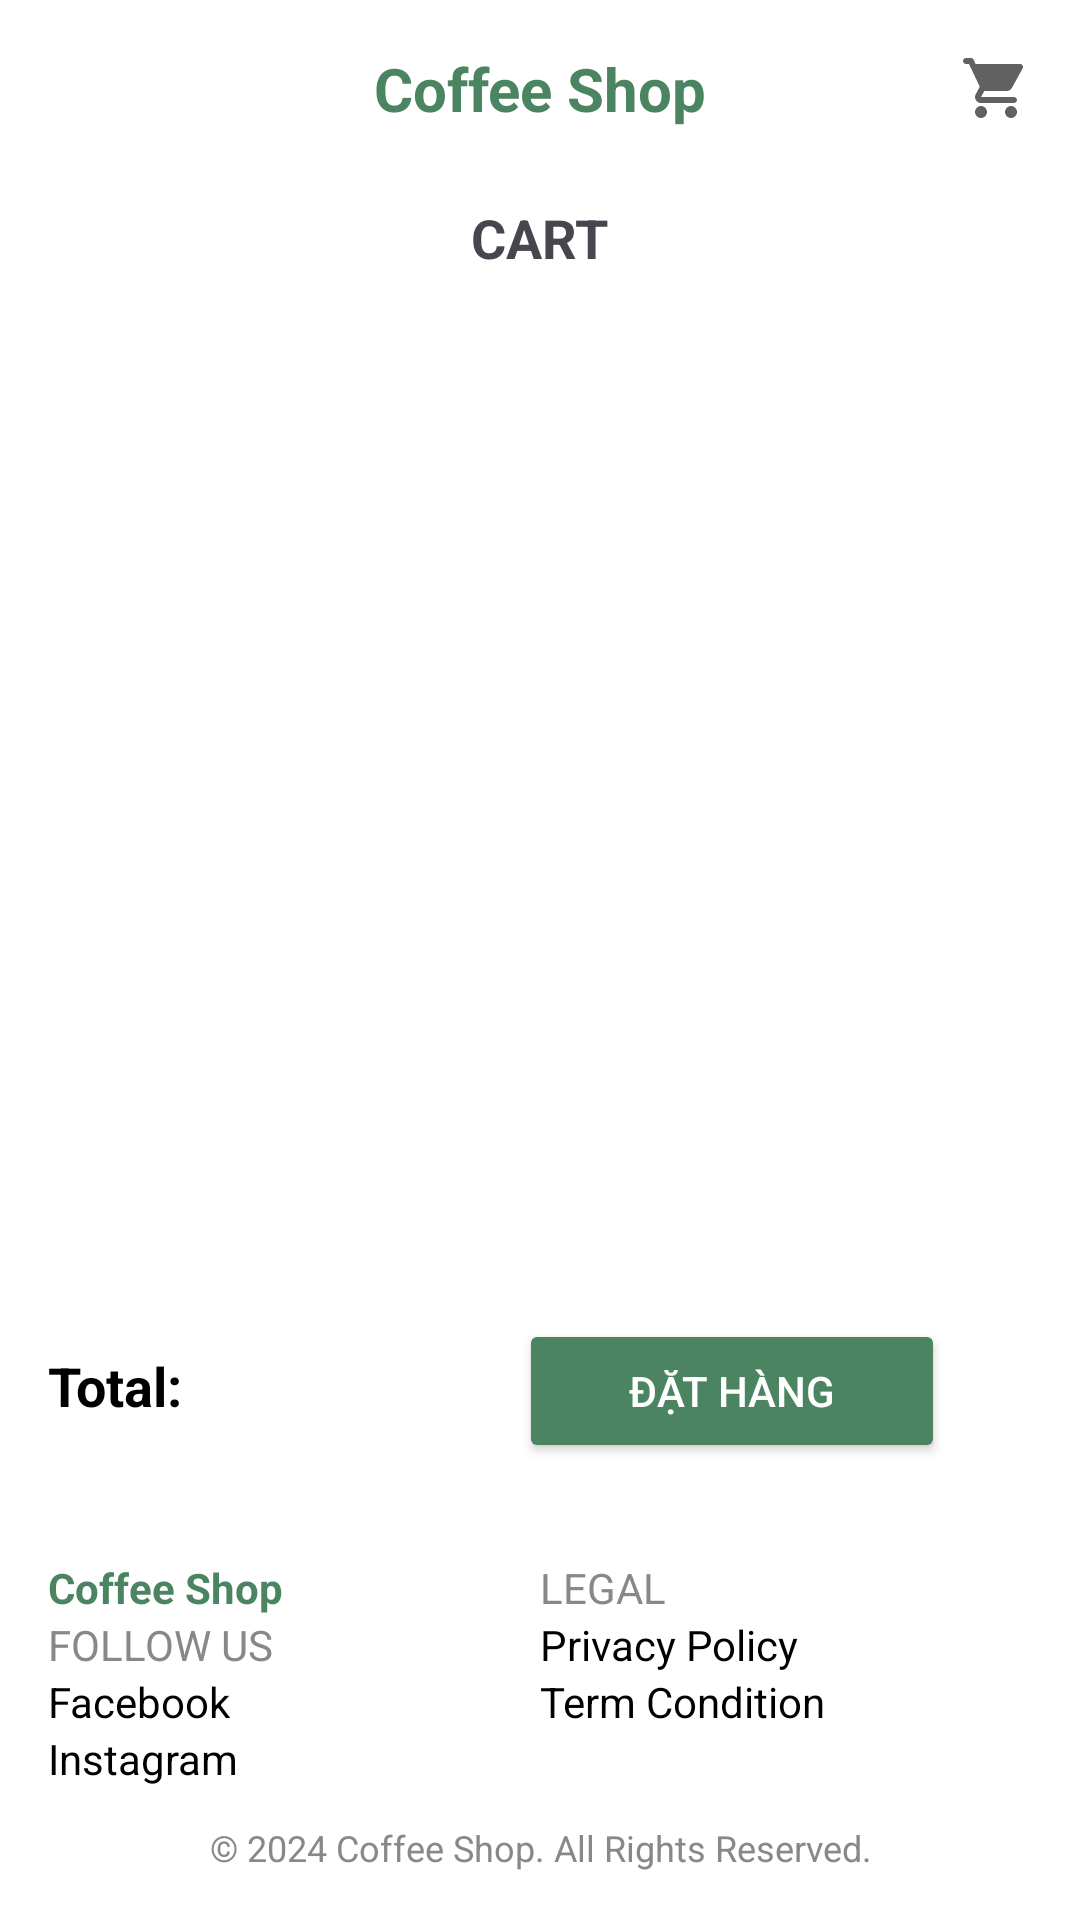

Named icons in this screenshot (1080w x 1920h) and their bounding boxes, (x1=x1, y1=y1, x2=x2, y2=y2):
Cart: (x1=963, y1=58, x2=1023, y2=118)
